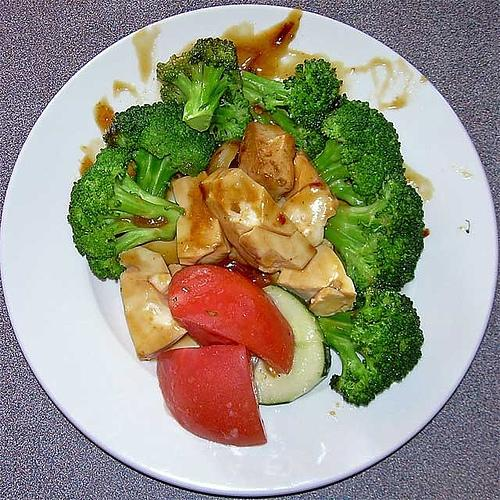broccoli: (67, 148, 181, 282), (316, 288, 424, 406), (322, 180, 426, 294), (103, 102, 218, 200), (312, 100, 406, 208), (157, 37, 242, 132), (240, 58, 343, 122), (208, 88, 252, 143)
cucumber: (250, 282, 331, 406)
tomato: (168, 264, 296, 374), (158, 344, 268, 445)
